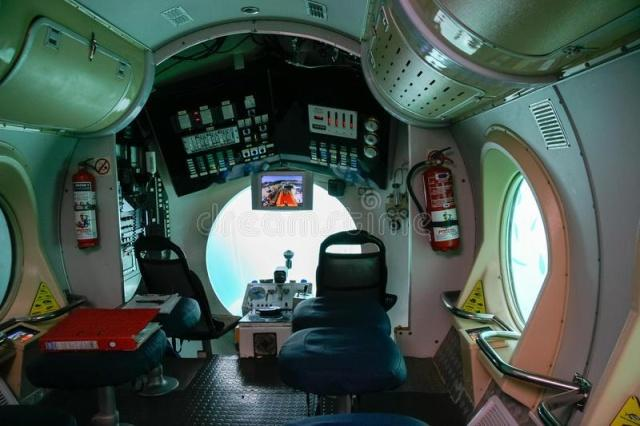APAR: (422, 146, 464, 252), (69, 157, 102, 249)
